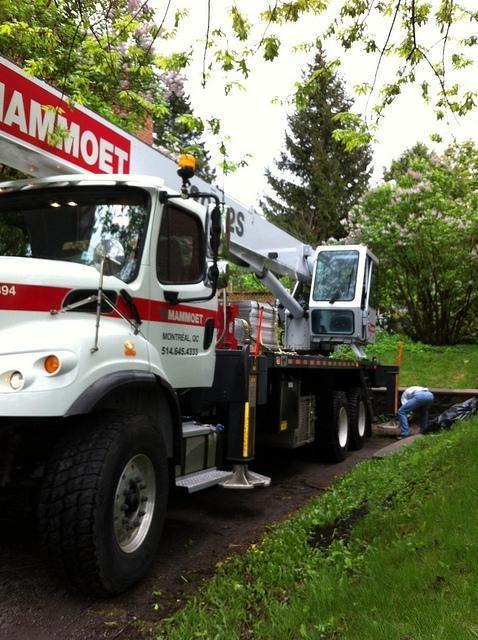truck: (0, 178, 399, 596)
